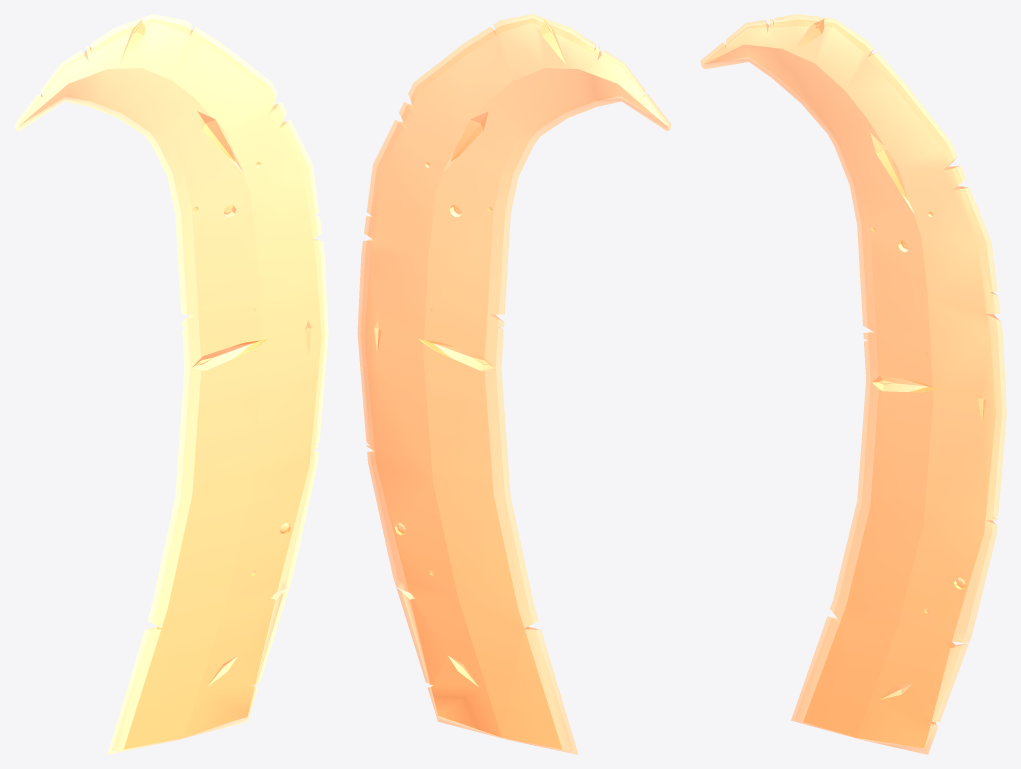
Rendered from wood_blade_bubbles_065.glb.
3 renders of one model, left to right at view 1: azimuth 30°, elevation 25°; view 2: azimuth 150°, elevation 25°; view 3: azimuth 330°, elevation 25°, orthographic. The views are drawn at different scales.
Visible parts, largest first — view 1: wood_blade_bubbles.065; view 2: wood_blade_bubbles.065; view 3: wood_blade_bubbles.065.
Boxes of the visible parts, x1,y1,x2,y2 form: wood_blade_bubbles.065: (14, 14, 328, 754); wood_blade_bubbles.065: (357, 14, 671, 754); wood_blade_bubbles.065: (700, 14, 1006, 754).
Size of the model in its own units: 4.65 by 10.35 by 0.241.
Materials: 1 (1 with a texture image).
